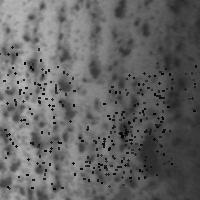pitted_surface: (1, 2, 188, 192), (107, 72, 166, 132), (111, 118, 171, 176), (72, 126, 131, 184), (4, 129, 61, 188), (14, 66, 73, 123), (140, 62, 195, 119), (103, 89, 160, 144), (87, 127, 140, 185), (98, 113, 153, 167), (0, 46, 50, 102)
